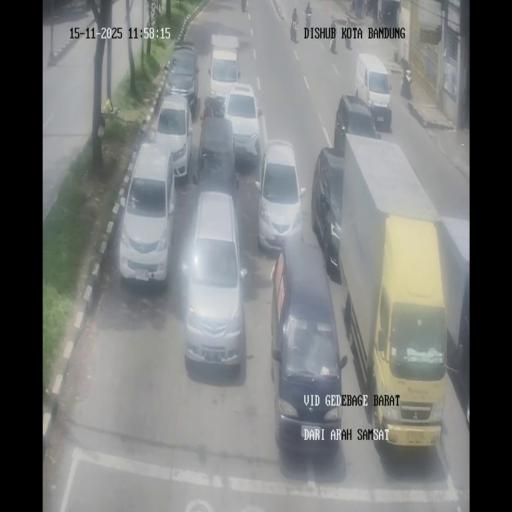car: (272, 239, 344, 454), (181, 190, 247, 371), (118, 142, 176, 284), (256, 136, 304, 255), (313, 148, 346, 279), (152, 94, 193, 181), (222, 82, 262, 165), (356, 52, 392, 127)
motorcycle: (400, 62, 413, 99), (343, 15, 352, 50), (330, 29, 337, 53), (290, 18, 297, 41), (305, 9, 312, 28), (349, 0, 355, 15), (240, 0, 247, 11), (378, 9, 383, 23)
truck: (336, 135, 463, 447), (382, 0, 402, 26)
